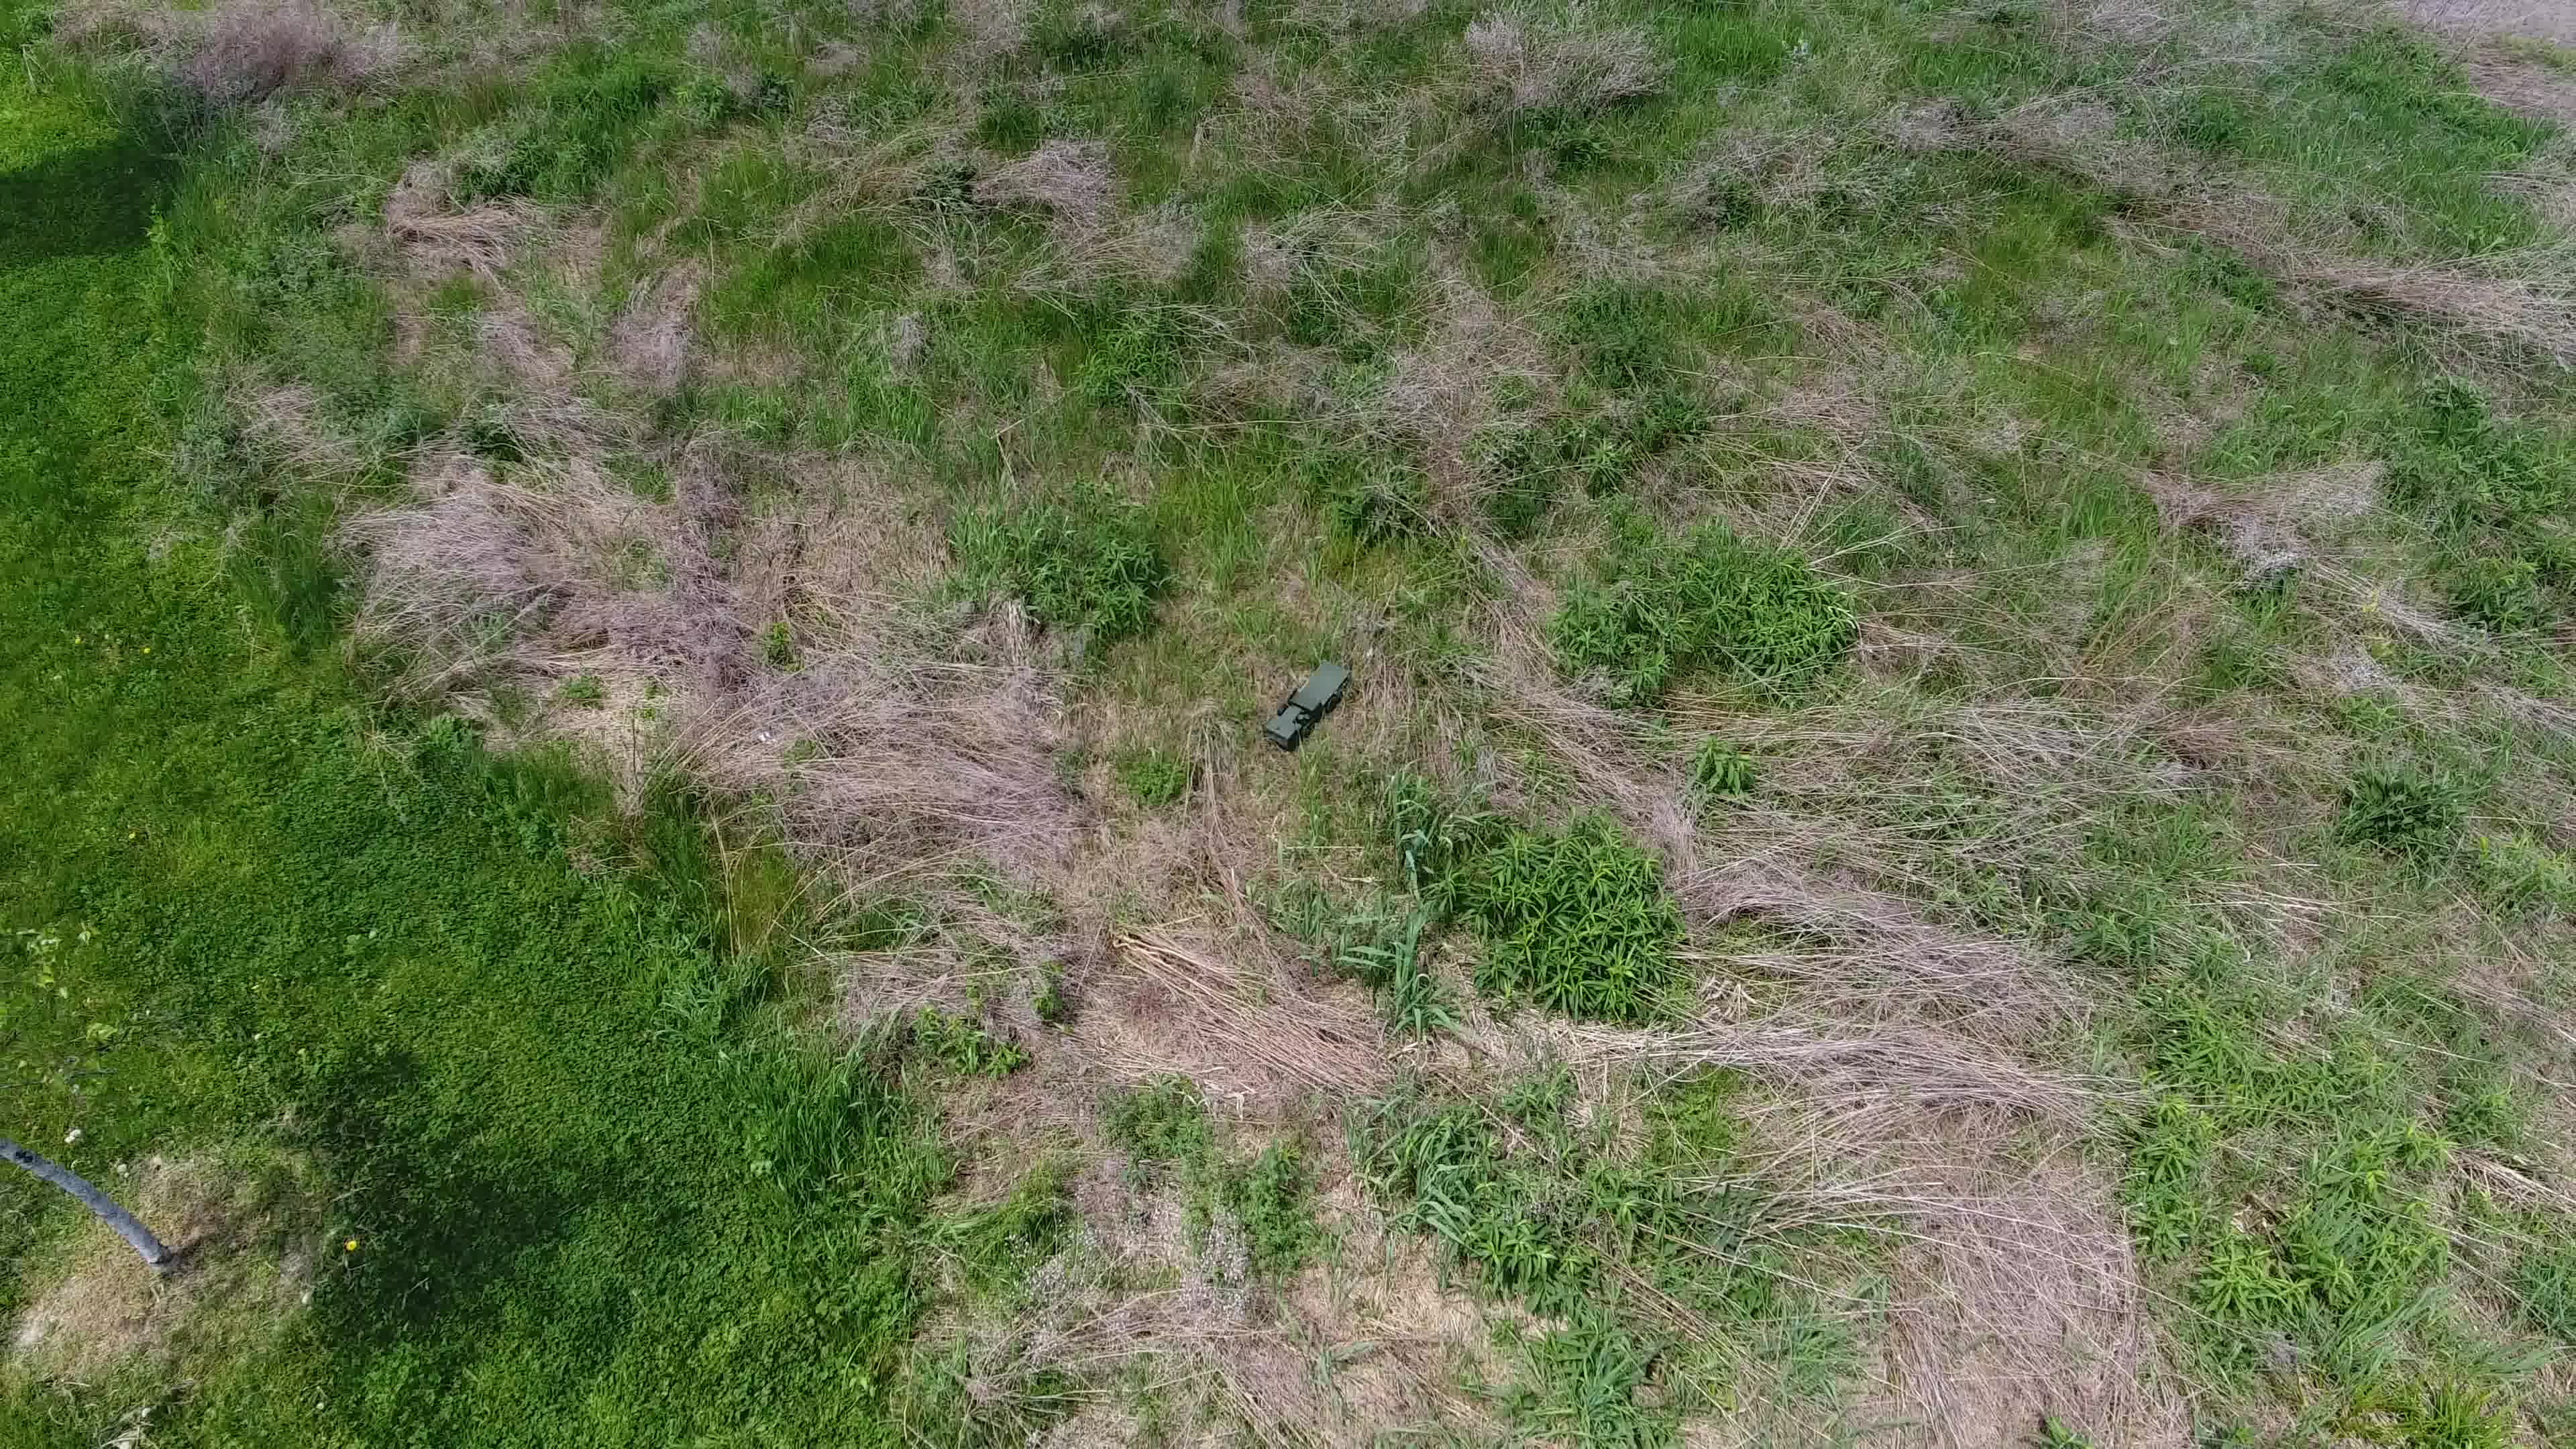transporter9: (1260, 658, 1353, 755)
